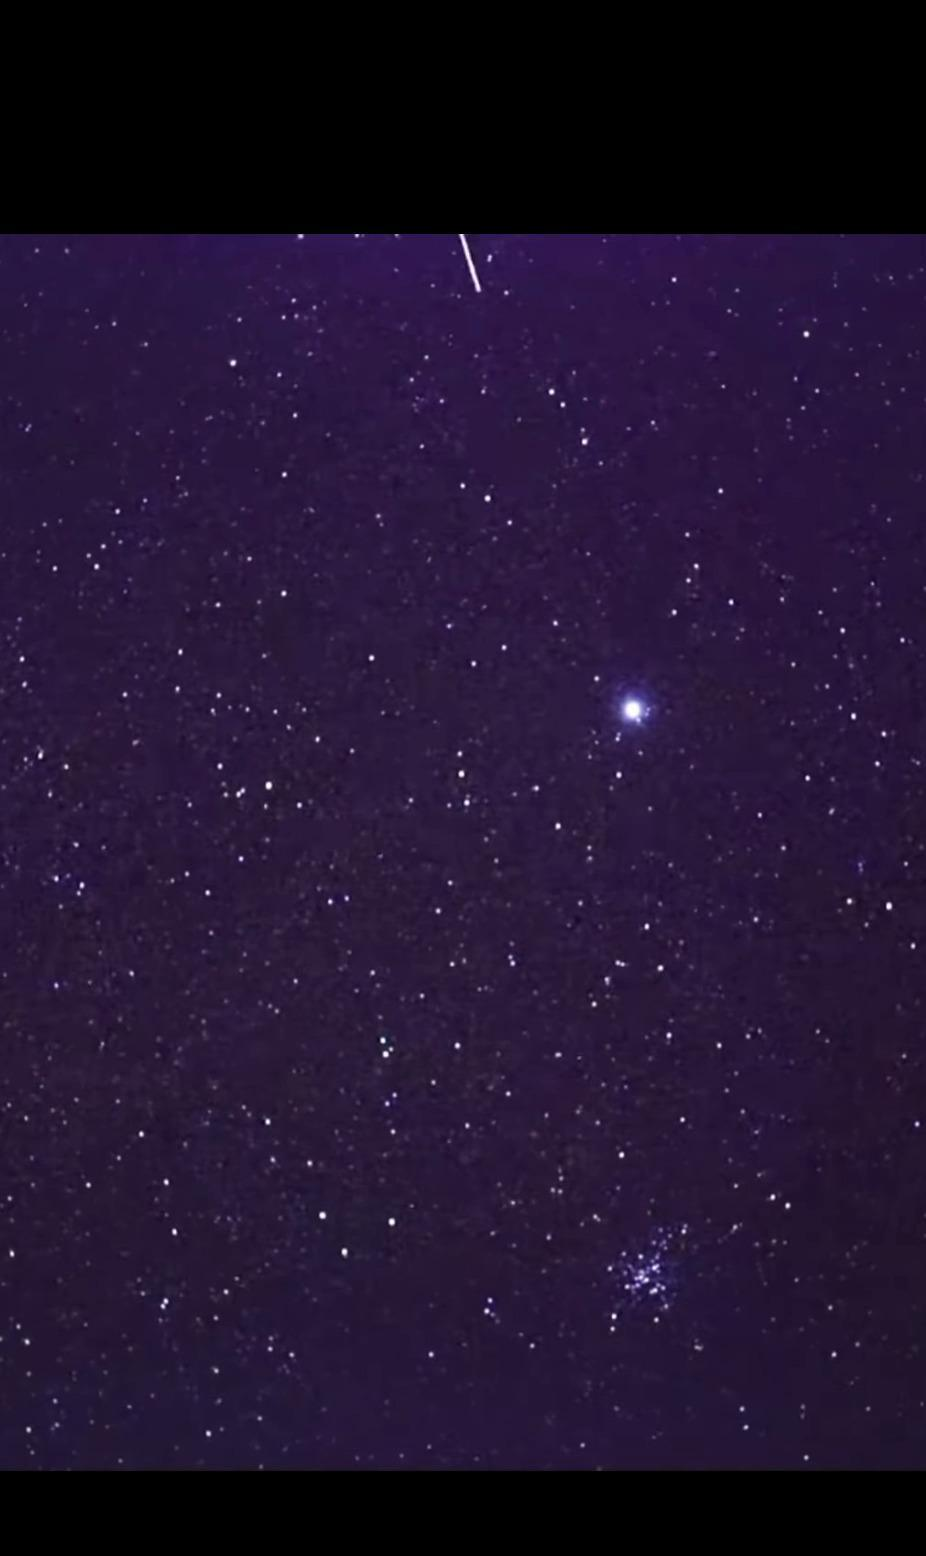meteorite: (431, 235, 500, 307)
